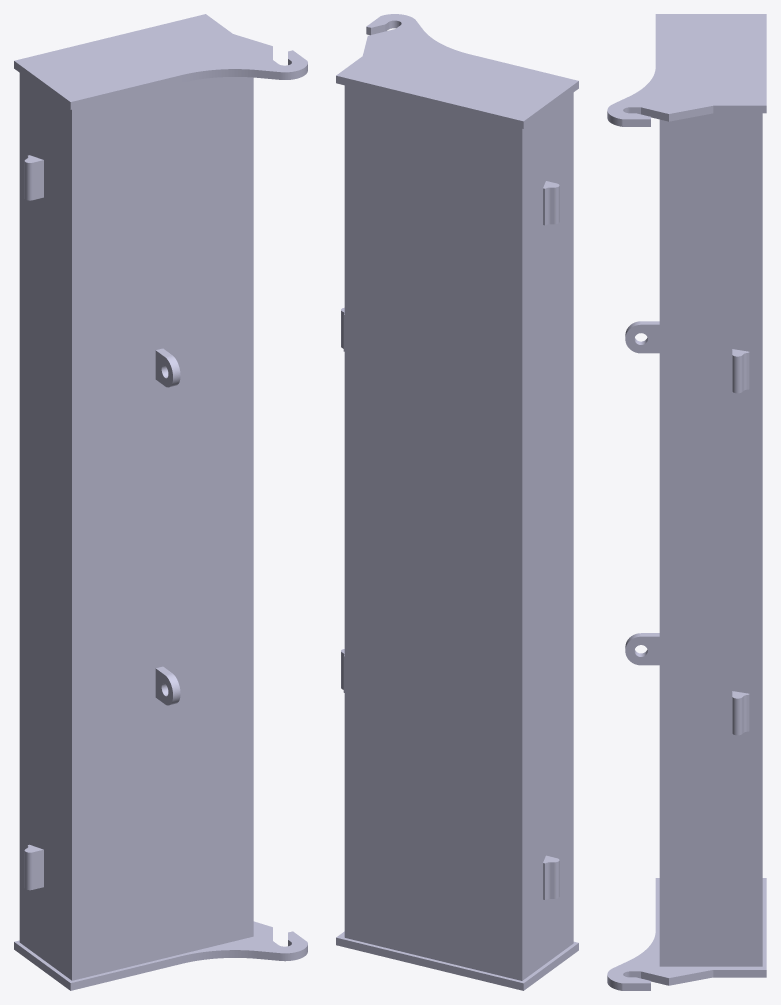
File: WTL_BACK.obj
3 views of the same model, side by side, from view 1: azimuth 30°, elevation 25°; view 2: azimuth 150°, elevation 25°; view 3: azimuth 270°, elevation 25° (orthographic). The views are drawn at different scales.
Parts seen in each view (by area): view 1: HSC_1500HLX_WTL_TP_000_1-1500HLX_WTL_TP009 (Meshed); view 2: HSC_1500HLX_WTL_TP_000_1-1500HLX_WTL_TP009 (Meshed); view 3: HSC_1500HLX_WTL_TP_000_1-1500HLX_WTL_TP009 (Meshed).
Part boxes in pixels (x1=…): HSC_1500HLX_WTL_TP_000_1-1500HLX_WTL_TP009 (Meshed): x1=14, y1=14, x2=307, y2=990; HSC_1500HLX_WTL_TP_000_1-1500HLX_WTL_TP009 (Meshed): x1=336, y1=14, x2=578, y2=990; HSC_1500HLX_WTL_TP_000_1-1500HLX_WTL_TP009 (Meshed): x1=607, y1=14, x2=766, y2=990.
Bounding box in the file's own units: 998 × 3650 × 604.
